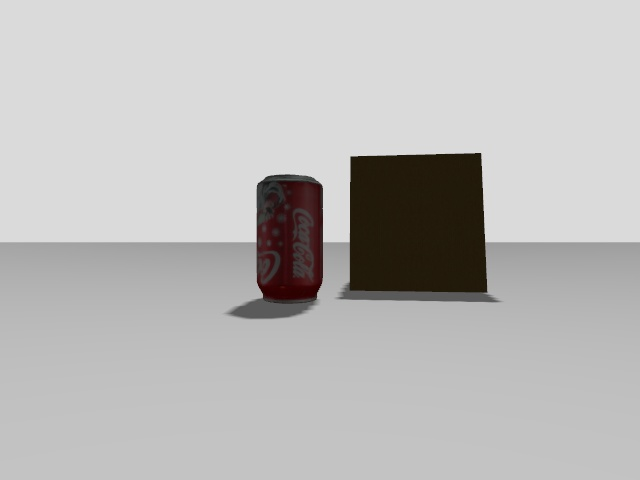canette: (257, 174, 322, 303)
carton: (349, 153, 486, 291)
